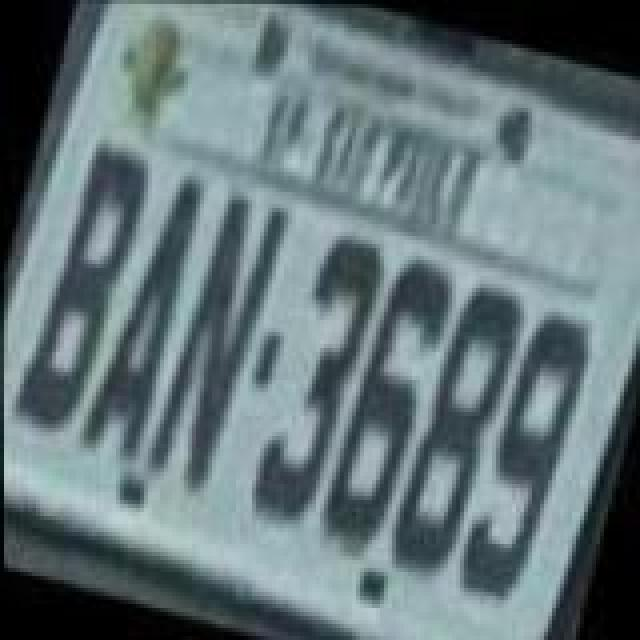3: (238, 220, 394, 536)
6: (306, 242, 462, 558)
8: (378, 270, 530, 582)
9: (450, 294, 602, 610)
A: (72, 160, 212, 468)
B: (6, 134, 158, 442)
N: (136, 184, 292, 500)
